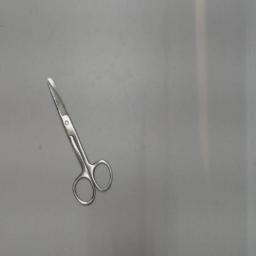Dressing Scissors: (40, 67, 118, 211)
